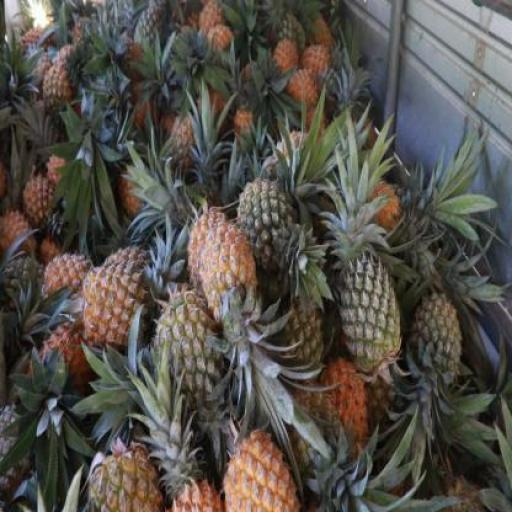------------------------------: (154, 292, 224, 400), (235, 180, 299, 278), (88, 442, 159, 512), (42, 64, 75, 122)
Pineapple - v8 v1: (84, 248, 154, 349), (222, 428, 299, 511), (202, 224, 263, 326), (187, 208, 235, 297), (45, 247, 92, 308), (24, 174, 62, 228)
